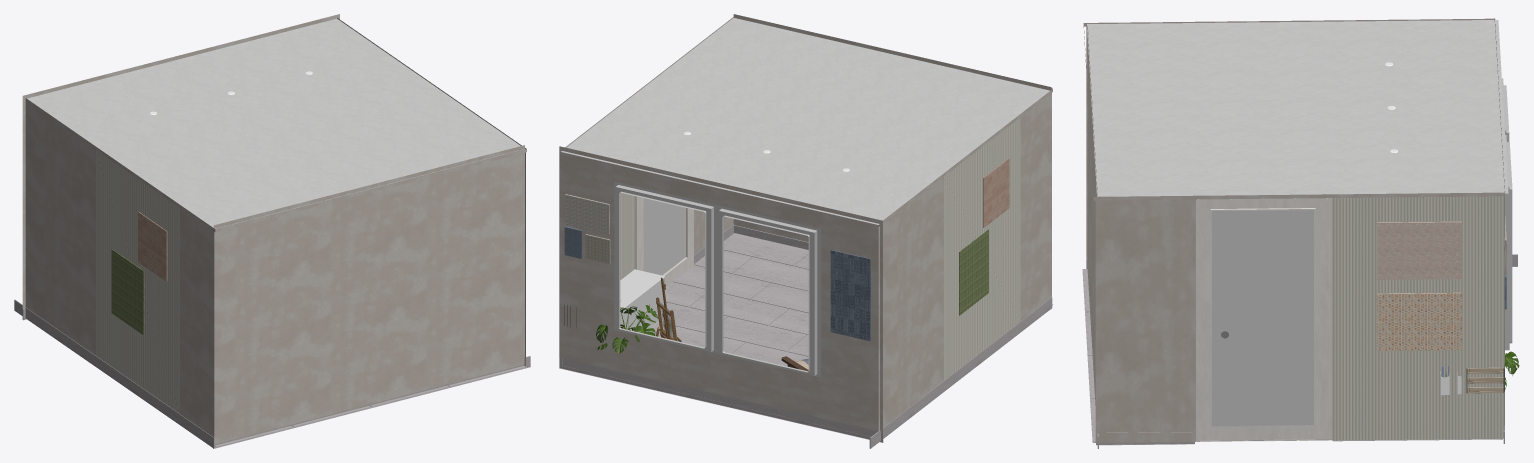
The model's file is finalSceneDO.glb.
3 views of the same model, side by side, from view 1: azimuth 30°, elevation 25°; view 2: azimuth 150°, elevation 25°; view 3: azimuth 270°, elevation 25° (orthographic). The views are drawn at different scales.
Parts seen in each view (by area): view 1: wall_back, ceiling, wall_left_main, wall_left_accent, floor, 5_frame, 4_frame; view 2: ceiling, wall_left_main, floor, wall_left_accent, window_border, wall_art_8, wall_back, door_pane, cabinet_left, 5_frame, door_frame, wall_art_7 (+4 smaller); view 3: ceiling, wall_left_accent, wall_left_main, door_pane, door_frame, wall_back, 1_frame, 2_frame, floor, window_border, Object_8.003.
Boxes of the visible parts, <box> form: wall_back: <box>25,18,526,444</box>; ceiling: <box>27,18,524,228</box>; wall_left_main: <box>22,14,525,437</box>; wall_left_accent: <box>95,150,179,413</box>; floor: <box>14,299,530,448</box>; 5_frame: <box>111,249,144,335</box>; 4_frame: <box>138,211,167,281</box>; ceiling: <box>561,18,1049,224</box>; wall_left_main: <box>559,93,1051,432</box>; floor: <box>559,224,1053,448</box>; wall_left_accent: <box>562,117,1020,380</box>; window_border: <box>614,181,821,377</box>; wall_art_8: <box>564,226,870,341</box>; wall_back: <box>562,14,1052,241</box>; door_pane: <box>643,198,685,275</box>; cabinet_left: <box>620,269,665,332</box>; 5_frame: <box>959,229,988,315</box>; door_frame: <box>635,196,693,286</box>; wall_art_7: <box>564,194,609,234</box>; ceiling: <box>1087,20,1508,196</box>; wall_left_accent: <box>1166,196,1504,440</box>; wall_left_main: <box>1086,18,1504,442</box>; door_pane: <box>1212,210,1313,425</box>; door_frame: <box>1195,198,1331,441</box>; wall_back: <box>1083,18,1505,404</box>; 1_frame: <box>1377,292,1461,350</box>; 2_frame: <box>1377,221,1461,279</box>; floor: <box>1082,254,1517,448</box>; window_border: <box>1502,78,1512,350</box>; Object_8.003: <box>1467,367,1503,393</box>.
Size of the model in its own units: 4.2 by 2.71 by 4.25.
Materials: 87 (73 with a texture image).
